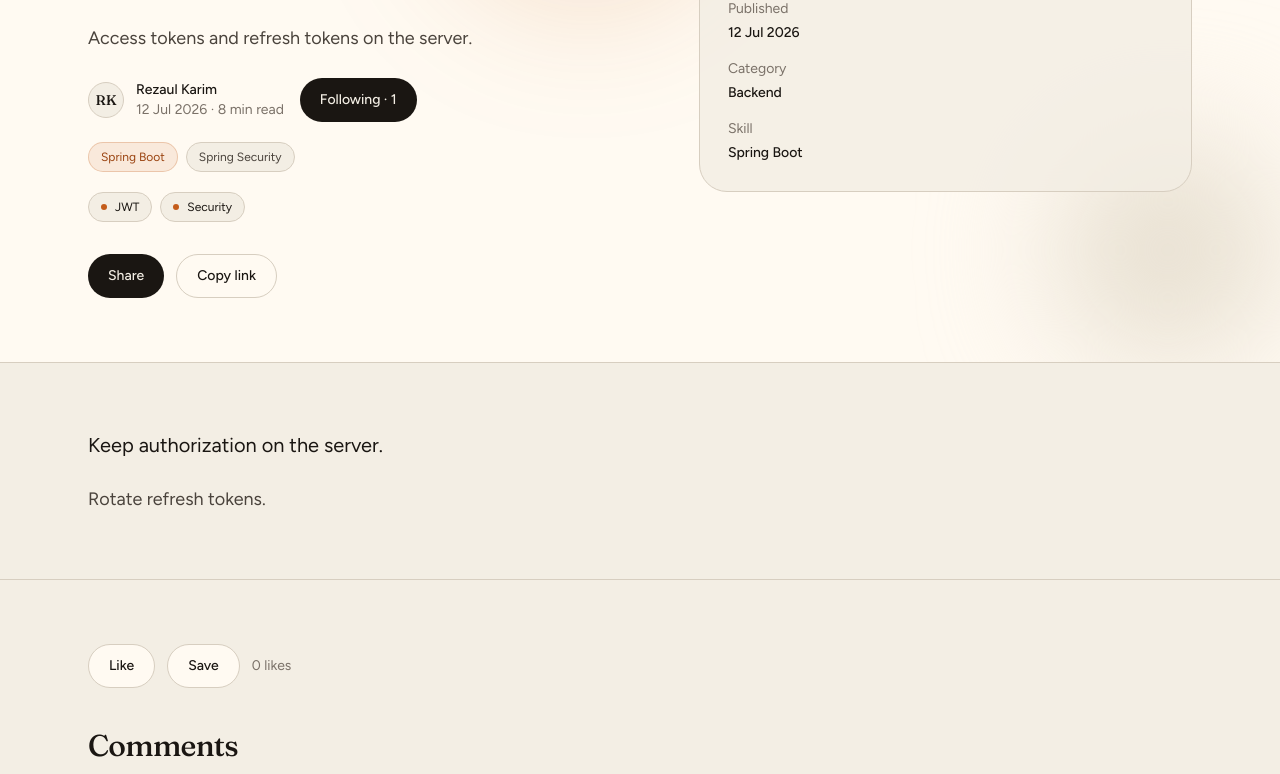
it: BlogPage › lets a signed-in reader like, save, and comment
(page scrolled)
Click the button "Like" at (122, 666), box [88,644,155,688]
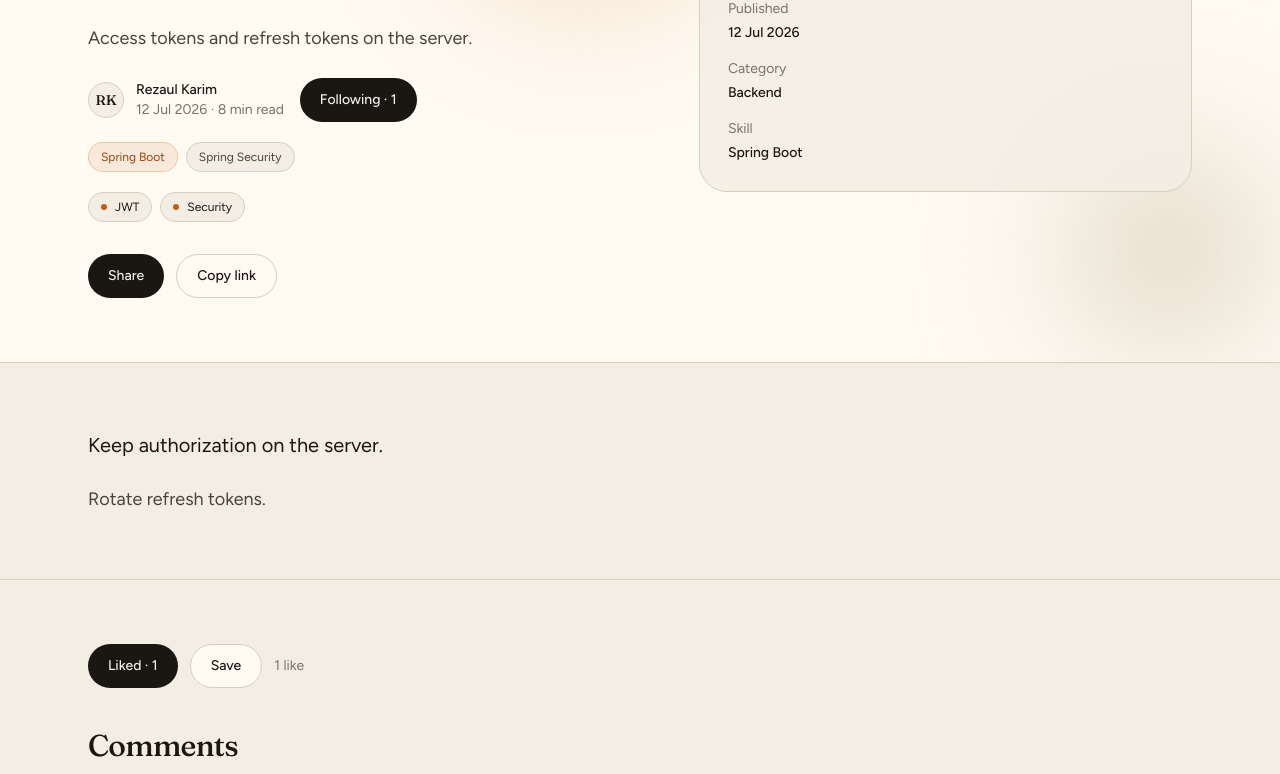
Now the button "Liked · 1" is shown, box [88,644,178,688]
Click the button "Save" at (226, 666), box [190,644,262,688]
(page scrolled)
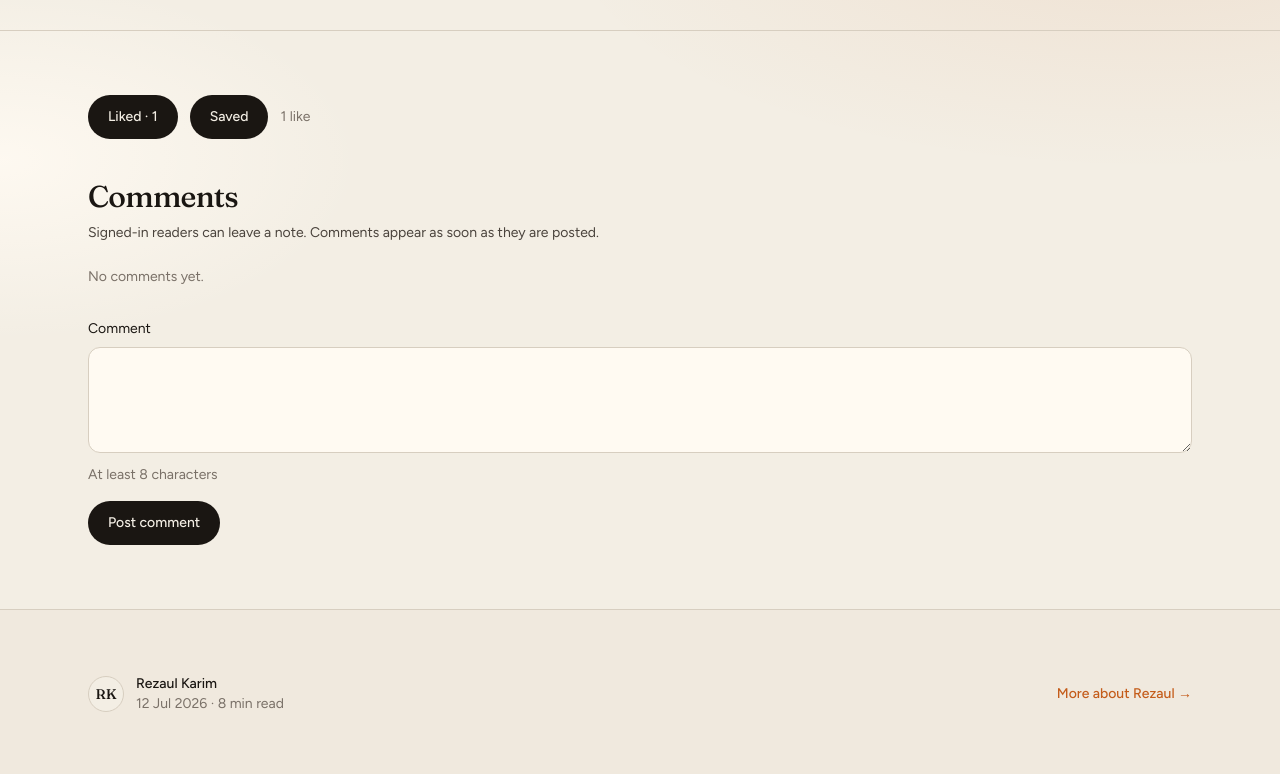
Now the button "Saved" is shown, box [190,95,268,139]
Type "This helped me ship auth." into the text box labelled "Comment" at (640, 400), box [88,347,1192,453]
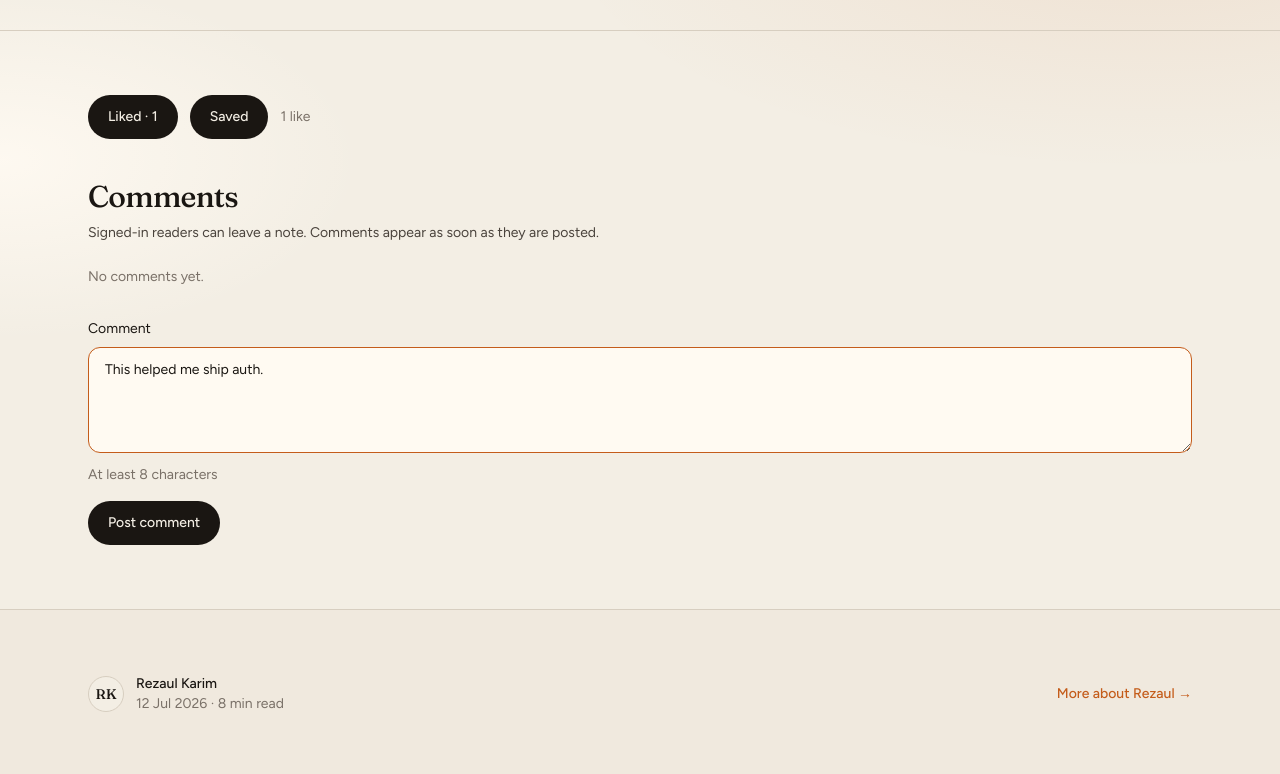
Click the button "Post comment" at (154, 523), box [88,501,220,545]
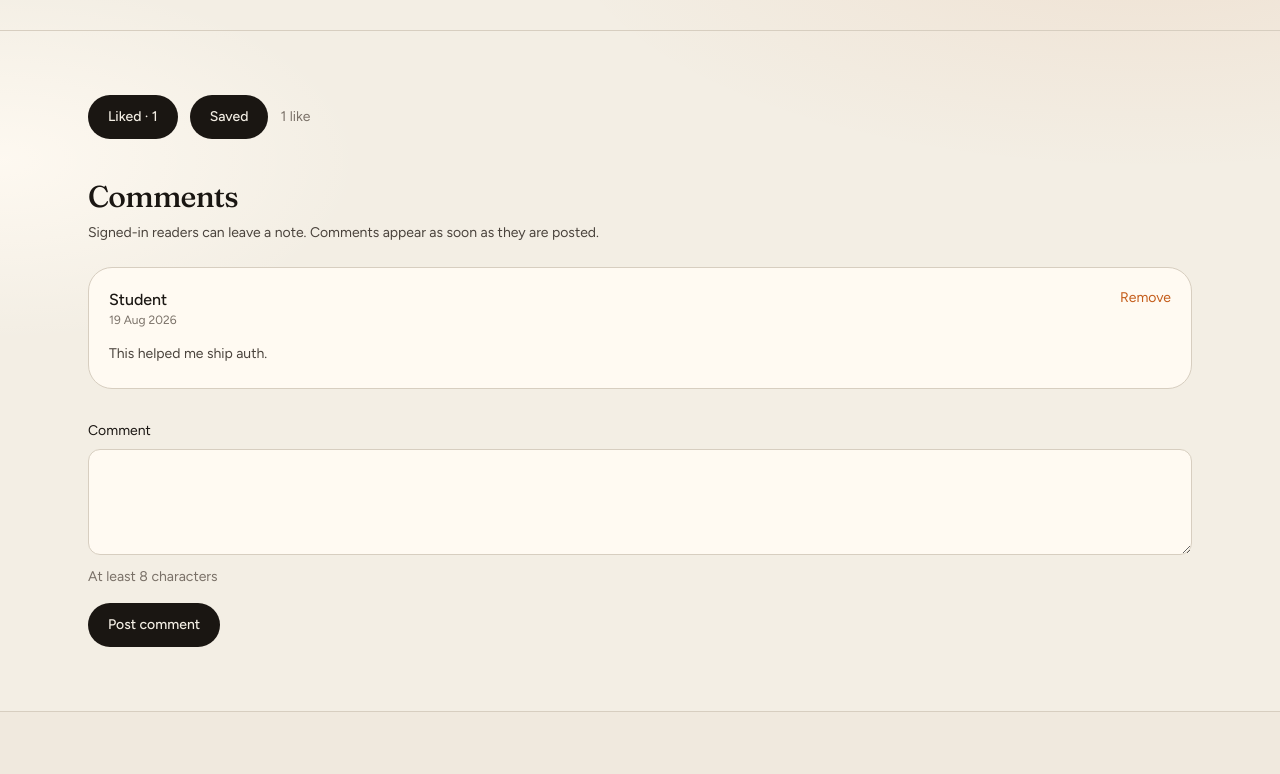
Now the text "This helped me ship auth." is shown, box [109,345,267,362]
Now the text "Student" is shown, box [109,288,176,312]
